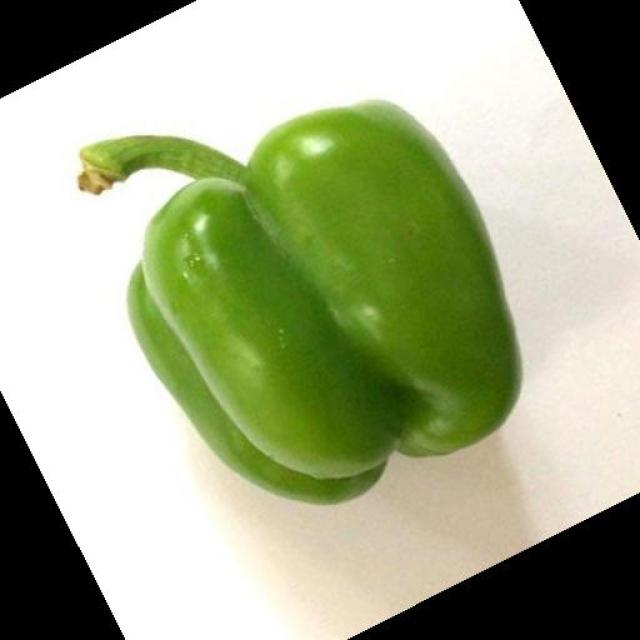Fresh_Capsicum: (56, 86, 530, 492)
